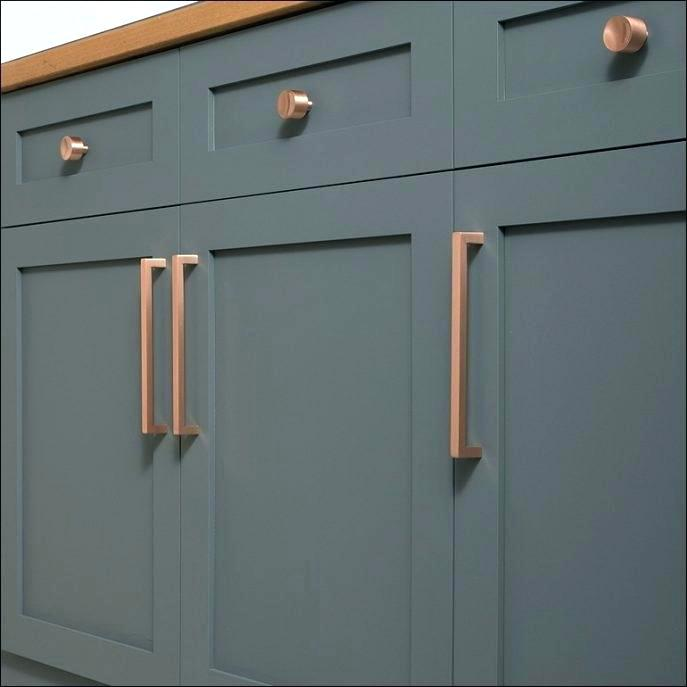cabinet door: (181, 215, 445, 687), (455, 171, 687, 686), (3, 230, 176, 654), (186, 48, 451, 185), (457, 7, 687, 156), (0, 87, 185, 205)
handle: (450, 220, 488, 463), (167, 252, 203, 448), (137, 252, 165, 440), (602, 11, 649, 56), (275, 81, 316, 126), (55, 133, 86, 167)
